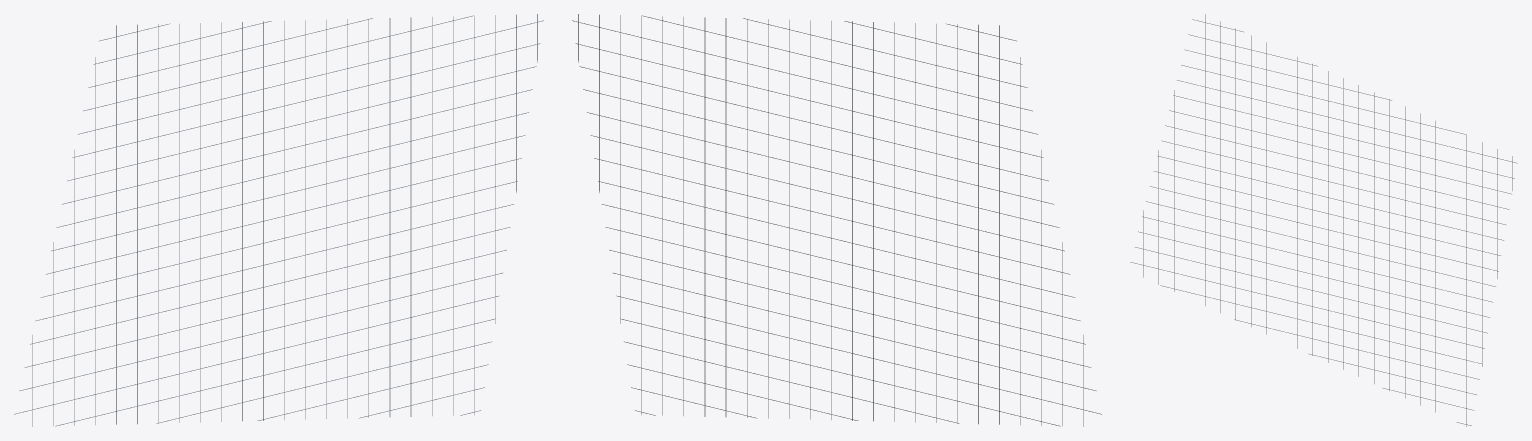
3 views of the same model, side by side, from view 1: azimuth 30°, elevation 25°; view 2: azimuth 150°, elevation 25°; view 3: azimuth 330°, elevation 25° (orthographic). The views are drawn at different scales.
Parts seen in each view (by area): view 1: part_0000; view 2: part_0000; view 3: part_0000.
Boxes of the visible parts, <box> form: part_0000: <box>14,14,543,426</box>; part_0000: <box>572,14,1101,426</box>; part_0000: <box>1130,14,1517,426</box>.
Size of the model in its own units: 7.55 by 6.5 by 0.
